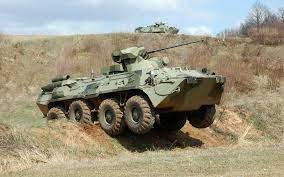tank: (30, 33, 235, 152)
